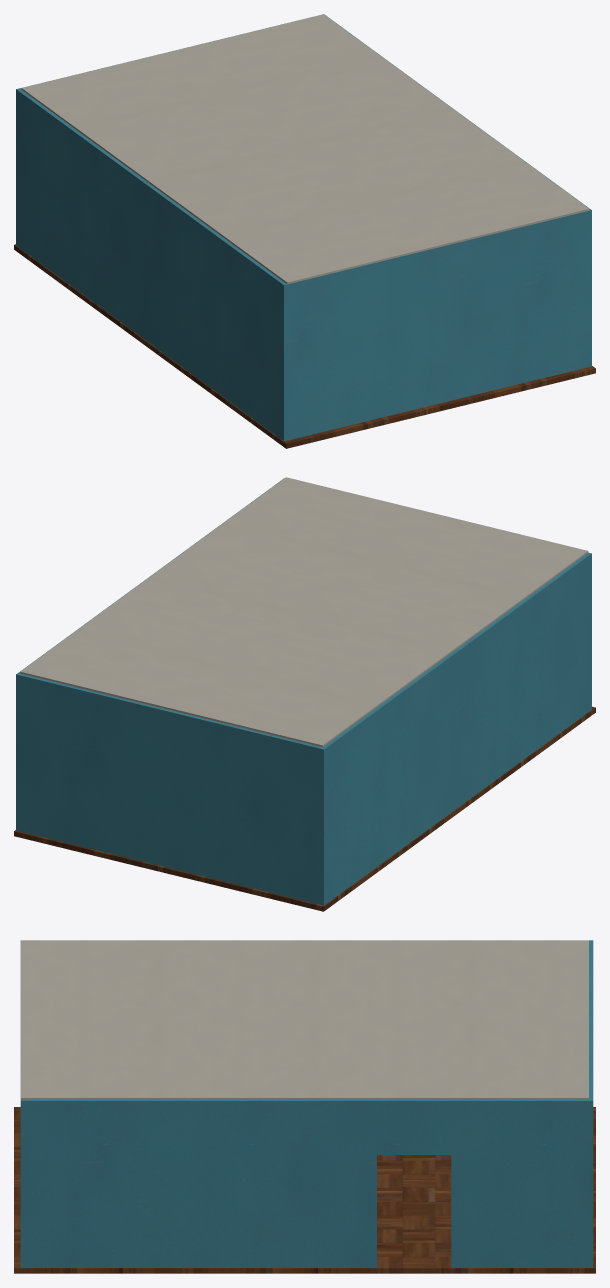
Rendered from bedroom.fbx.
3 views of the same model, one above another, from view 1: azimuth 30°, elevation 25°; view 2: azimuth 150°, elevation 25°; view 3: azimuth 270°, elevation 25° (orthographic). The views are drawn at different scales.
Visible parts, largest first — view 1: bedroomWalls, bedroomCeiling, bedroomFloor; view 2: bedroomWalls, bedroomCeiling, bedroomFloor; view 3: bedroomCeiling, bedroomWalls, bedroomFloor.
Boxes of the visible parts, left/top/right/bottom form: bedroomWalls: left=16, top=14, right=591, bottom=441; bedroomCeiling: left=21, top=14, right=589, bottom=284; bedroomFloor: left=14, top=244, right=595, bottom=448; bedroomWalls: left=16, top=478, right=591, bottom=905; bedroomCeiling: left=20, top=477, right=588, bottom=746; bedroomFloor: left=14, top=706, right=595, bottom=911; bedroomCeiling: left=21, top=940, right=588, bottom=1099; bedroomWalls: left=20, top=940, right=593, bottom=1267; bedroomFloor: left=14, top=1107, right=595, bottom=1273.
Size of the model in its own units: 662 by 333 by 1008.
